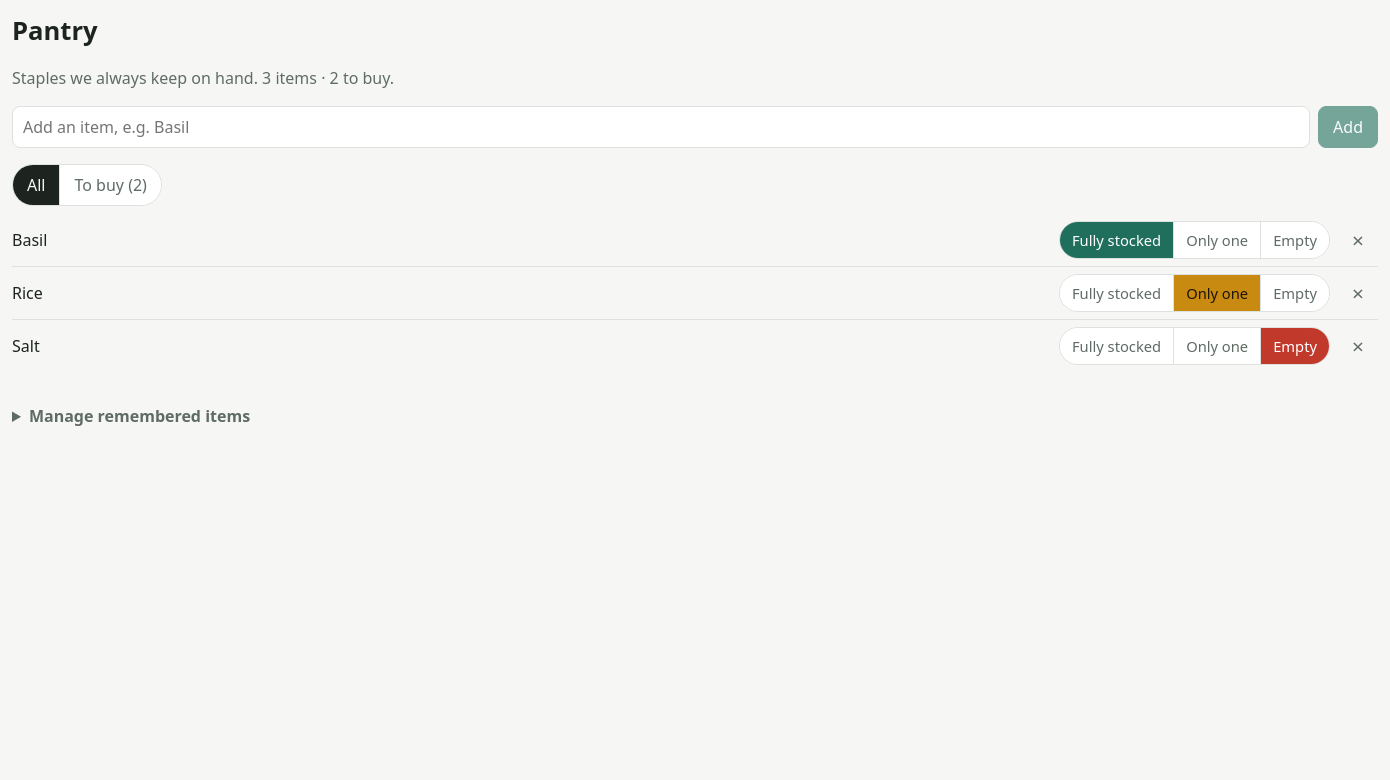
PantryPage › says so when the item is already in the pantry
Expected: the text "Basil" is shown, [12,229,47,251]
Type "basil" into the dropdown named "Add to pantry". click: x=661, y=127
box: [12,106,1310,148]
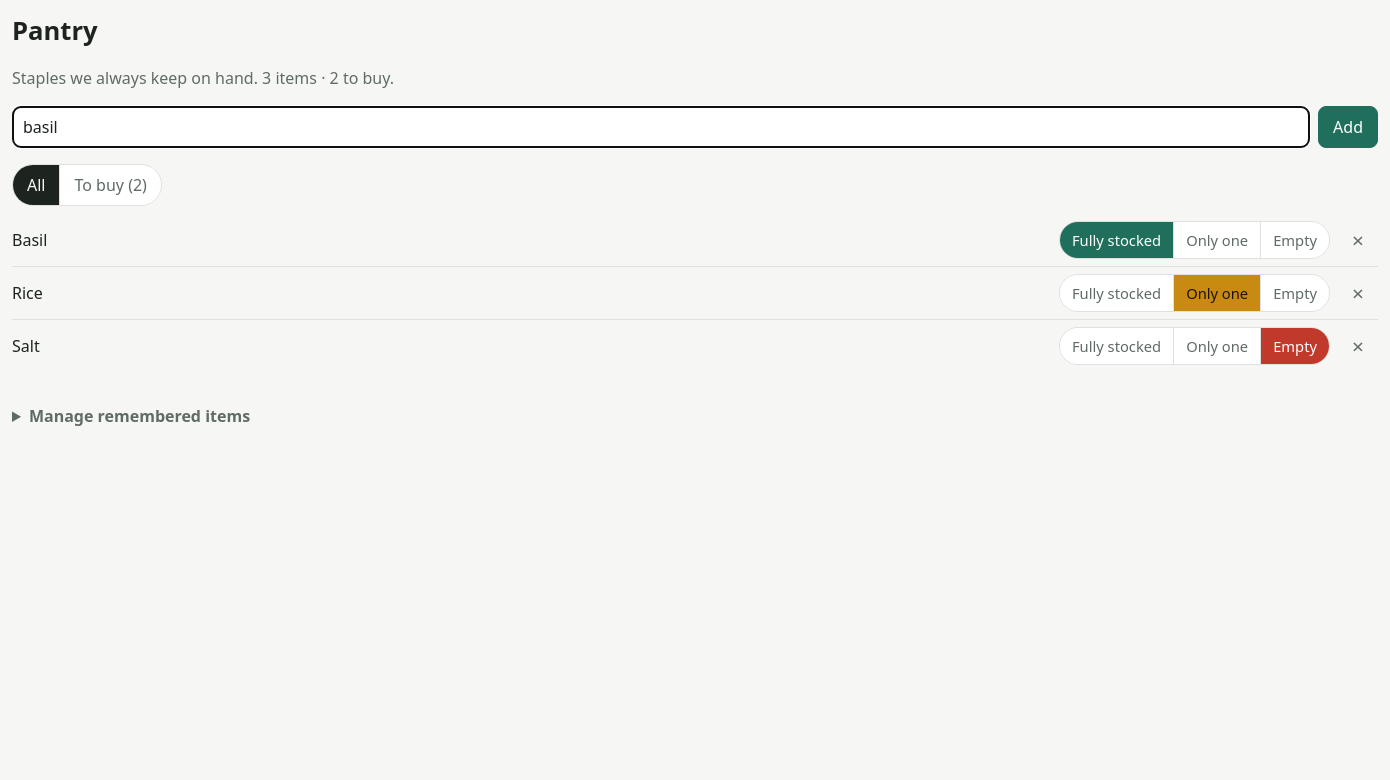
Click the button "Add". click: x=1348, y=127
box: [1318,106,1378,148]
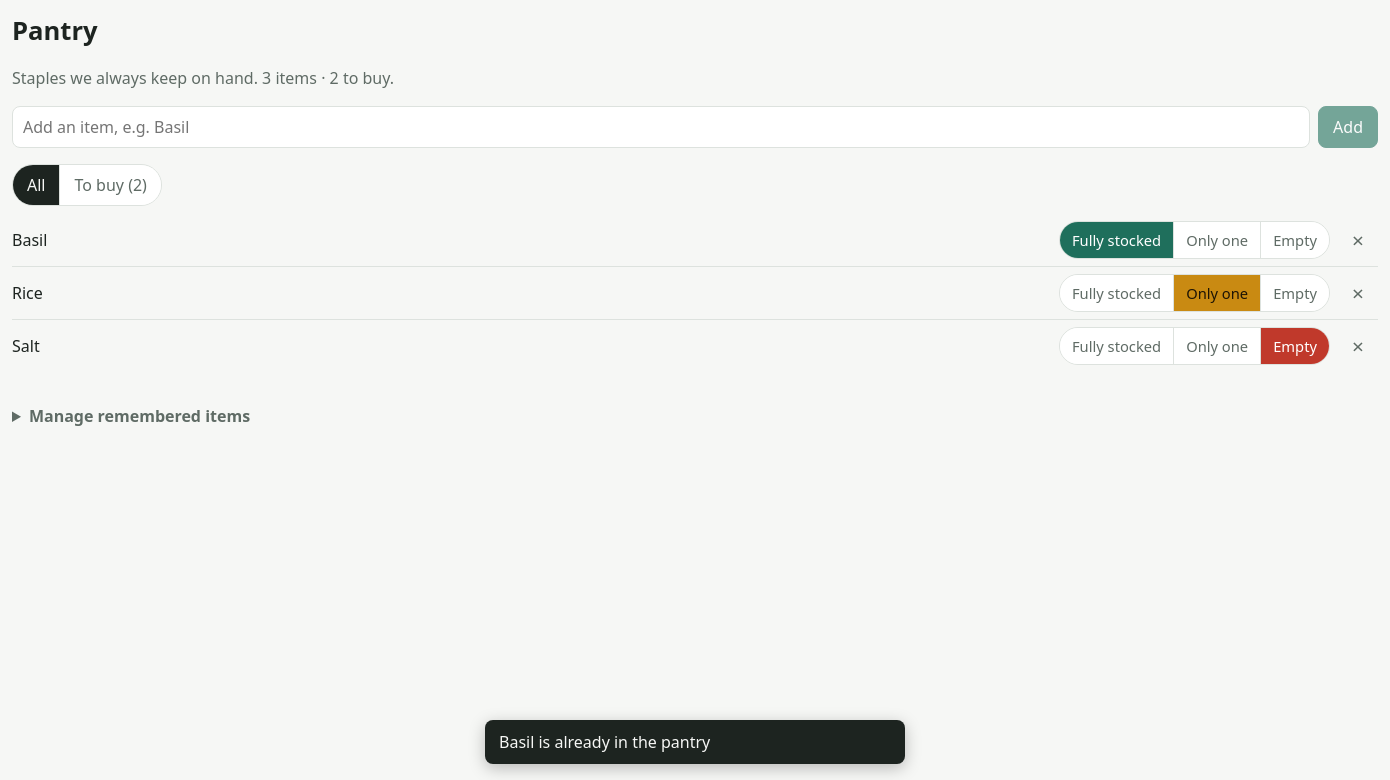
Now the text "Basil is already in the pantry" is shown, box [485,720,905,764]
